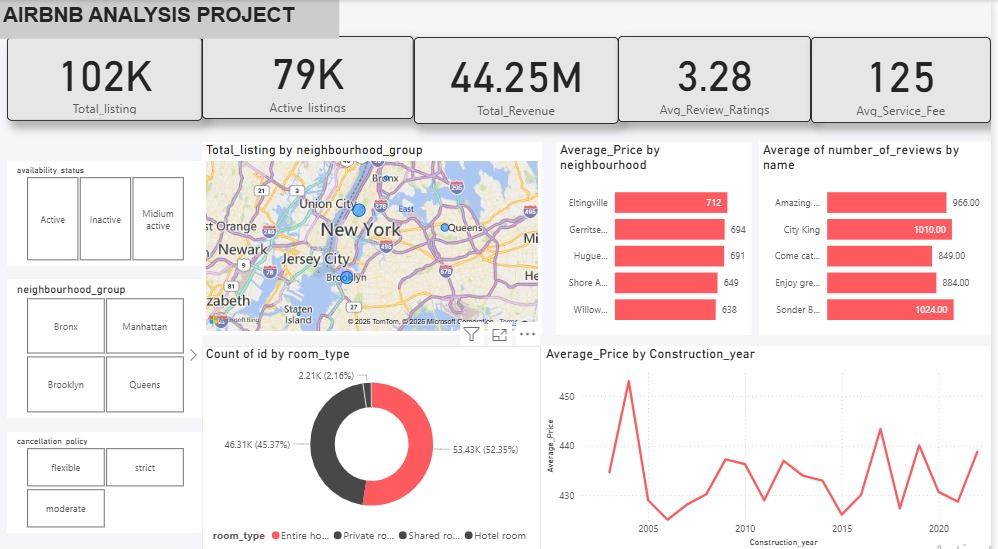

The page's visual inventory and layout, read from the dashboard file:
{"tool":"powerbi","page":{"name":"Page 1","canvas":[1280,720],"ordinal":0},"visuals":[{"type":"card","fields":{"Values":["air airbnb_listings.Total_listing"]},"box":[9.9,48.2,252.3,107.7],"z":0},{"type":"card","fields":{"Values":["air airbnb_listings.Active_listings"]},"box":[262.3,46.6,272.7,107],"z":1000},{"type":"card","fields":{"Values":["air airbnb_listings.Total_Revenue"]},"box":[535.2,48.2,263.6,112],"z":2000},{"type":"card","fields":{"Values":["air airbnb_listings.Avg_Review_Ratings"]},"box":[798.9,46.3,249.3,111.4],"z":3000},{"type":"map","fields":{"Size":["air airbnb_listings.Total_listing"],"Category":["air airbnb_listings.neighbourhood_group Hierarchy.neighbourhood_group","air airbnb_listings.neighbourhood_group Hierarchy.neighbourhood"]},"box":[262.2,182.8,438,249.4],"z":4000},{"type":"donutChart","fields":{"Y":["Count(air airbnb_listings.id)"],"Category":["air airbnb_listings.room_type"]},"box":[262.1,446.4,437.8,263.5],"z":5000},{"type":"clusteredBarChart","fields":{"Category":["air airbnb_listings.neighbourhood"],"Y":["air airbnb_listings.Average_Price"]},"box":[718.6,182.8,252.3,249.4],"z":6000},{"type":"lineChart","fields":{"Category":["air airbnb_listings.Construction_year"],"Y":["air airbnb_listings.Average_Price"]},"box":[700.2,446.5,579.7,263.6],"z":7000},{"type":"clusteredBarChart","fields":{"Category":["air airbnb_listings.name"],"Y":["Avg(air airbnb_listings.number_of_reviews)"]},"box":[980.8,182.8,299.1,249.4],"z":8000},{"type":"slicer","fields":{"Values":["air airbnb_listings.availability_status"]},"box":[10.1,207.4,252,135.4],"z":9000},{"type":"slicer","fields":{"Values":["air airbnb_listings.neighbourhood_group"]},"box":[10.1,360,252,178.6],"z":10000},{"type":"slicer","fields":{"Values":["air airbnb_listings.cancellation_policy"]},"box":[10.1,557.3,252,129.6],"z":11000},{"type":"card","fields":{"Values":["air airbnb_listings.Avg_Service_Fee"]},"box":[1048.3,48.4,231.7,111.4],"z":12000},{"type":"textbox","box":[0,0,439.4,49.6],"z":13000}]}

Visuals, with their boxes in screenshot pixels (x1, y1, x2, y2), scaled from the page's 1280x720 canvas onto the 998x549 screenshot:
card - air airbnb_listings.Total_listing: (left=8, top=37, right=204, bottom=119)
card - air airbnb_listings.Active_listings: (left=205, top=36, right=417, bottom=117)
card - air airbnb_listings.Total_Revenue: (left=417, top=37, right=623, bottom=122)
card - air airbnb_listings.Avg_Review_Ratings: (left=623, top=35, right=817, bottom=120)
map - air airbnb_listings.Total_listing x air airbnb_listings.neighbourhood_group Hierarchy.neighbourhood_group: (left=204, top=139, right=546, bottom=330)
donutChart - Count(air airbnb_listings.id) x air airbnb_listings.room_type: (left=204, top=340, right=546, bottom=541)
clusteredBarChart - air airbnb_listings.neighbourhood x air airbnb_listings.Average_Price: (left=560, top=139, right=757, bottom=330)
lineChart - air airbnb_listings.Construction_year x air airbnb_listings.Average_Price: (left=546, top=340, right=997, bottom=541)
clusteredBarChart - air airbnb_listings.name x Avg(air airbnb_listings.number_of_reviews): (left=765, top=139, right=997, bottom=330)
slicer - air airbnb_listings.availability_status: (left=8, top=158, right=204, bottom=261)
slicer - air airbnb_listings.neighbourhood_group: (left=8, top=274, right=204, bottom=411)
slicer - air airbnb_listings.cancellation_policy: (left=8, top=425, right=204, bottom=524)
card - air airbnb_listings.Avg_Service_Fee: (left=817, top=37, right=997, bottom=122)
textbox: (left=0, top=0, right=343, bottom=38)
